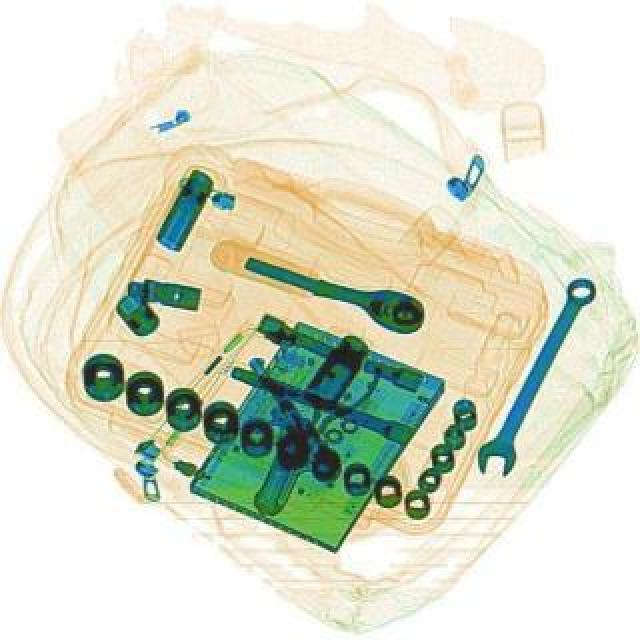gun: (178, 350, 346, 522)
